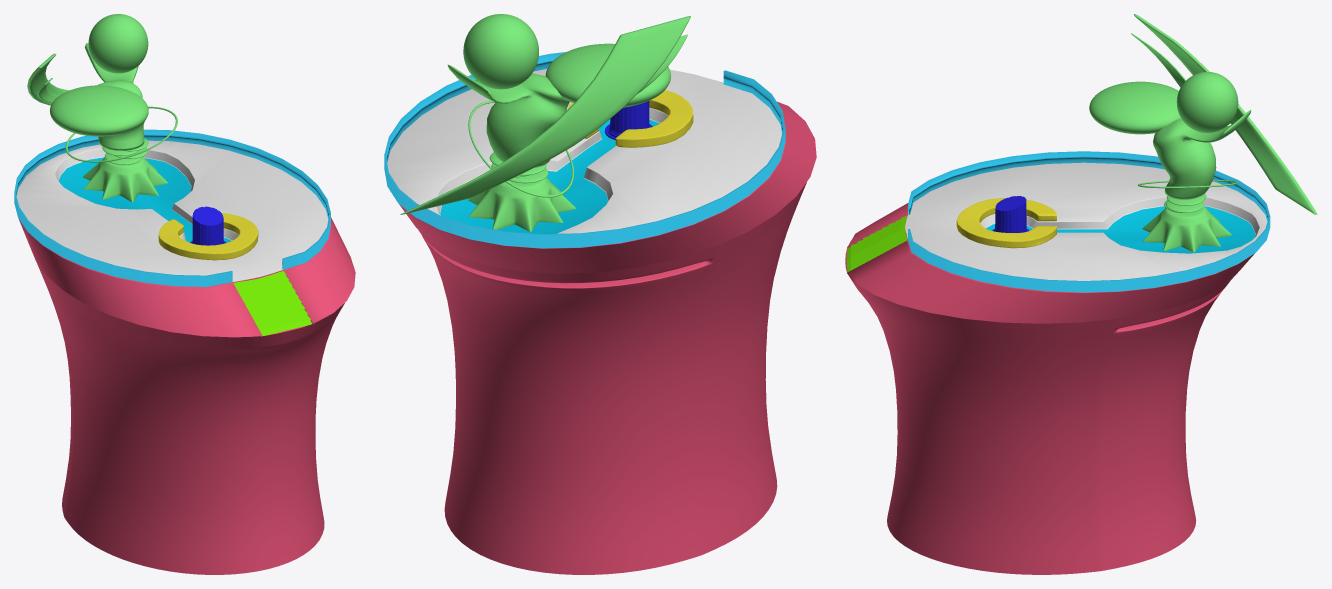
File: part_1_platform(new1).fbx
The picture shows the model from 3 angles, left to right: view 1: azimuth 30°, elevation 25°; view 2: azimuth 150°, elevation 25°; view 3: azimuth 270°, elevation 25°; orthographic projection. The views are drawn at different scales.
Parts seen in each view (by area): view 1: platform_botton, platform_up, platform_up_glass, tree_sphere, stair, tree_sphere_small, platform_semicircle, tree_root, tree_body, platform_piliar, tree_line; view 2: platform_botton, platform_up, tree_line, platform_up_glass, tree_body, tree_sphere_small, tree_root, tree_sphere, platform_semicircle, platform_piliar; view 3: platform_botton, platform_up, platform_up_glass, tree_body, tree_sphere, tree_line, tree_sphere_small, platform_semicircle, tree_root, stair, platform_piliar.
Boxes of the visible parts, box(x1,y1,x2,y2) form: platform_botton: box(36, 262, 344, 574); platform_up: box(16, 140, 355, 337); platform_up_glass: box(14, 129, 330, 286); tree_sphere: box(50, 85, 148, 136); stair: box(233, 270, 311, 335); tree_sphere_small: box(88, 14, 148, 73); platform_semicircle: box(158, 213, 258, 260); tree_root: box(83, 156, 167, 202); tree_body: box(85, 43, 144, 150); platform_piliar: box(190, 206, 226, 245); tree_line: box(27, 53, 69, 105); platform_botton: box(418, 182, 806, 574); platform_up: box(387, 69, 816, 273); tree_line: box(400, 16, 690, 214); platform_up_glass: box(384, 52, 785, 248); tree_body: box(447, 64, 569, 167); tree_sphere_small: box(463, 14, 538, 89); tree_root: box(468, 177, 576, 231); tree_sphere: box(545, 43, 670, 107); platform_semicircle: box(568, 90, 693, 147); platform_piliar: box(604, 101, 652, 139); platform_botton: box(845, 240, 1229, 574); platform_up: box(846, 162, 1267, 323); platform_up_glass: box(908, 151, 1270, 292); tree_body: box(1153, 110, 1251, 199); tree_sphere: box(1089, 81, 1180, 134); tree_line: box(1134, 14, 1317, 214); tree_sphere_small: box(1176, 72, 1238, 132); platform_semicircle: box(956, 198, 1056, 248); tree_root: box(1142, 206, 1231, 252); stair: box(846, 215, 907, 272); platform_piliar: box(992, 196, 1029, 232).
Bounding box in the file's own units: 10777 × 17438 × 16499.
